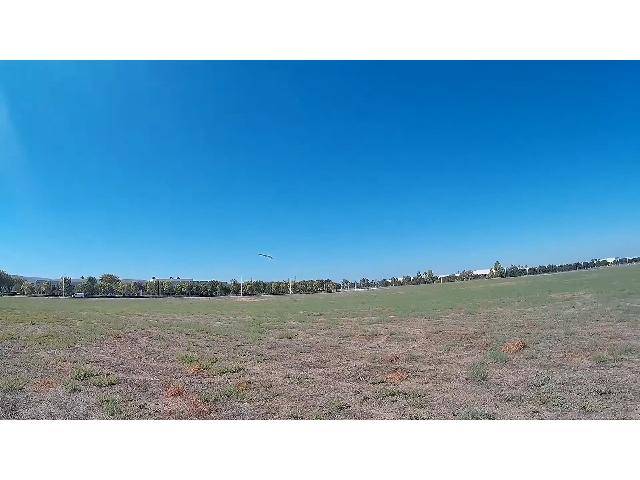Anti-Drone: (258, 254, 272, 258)
